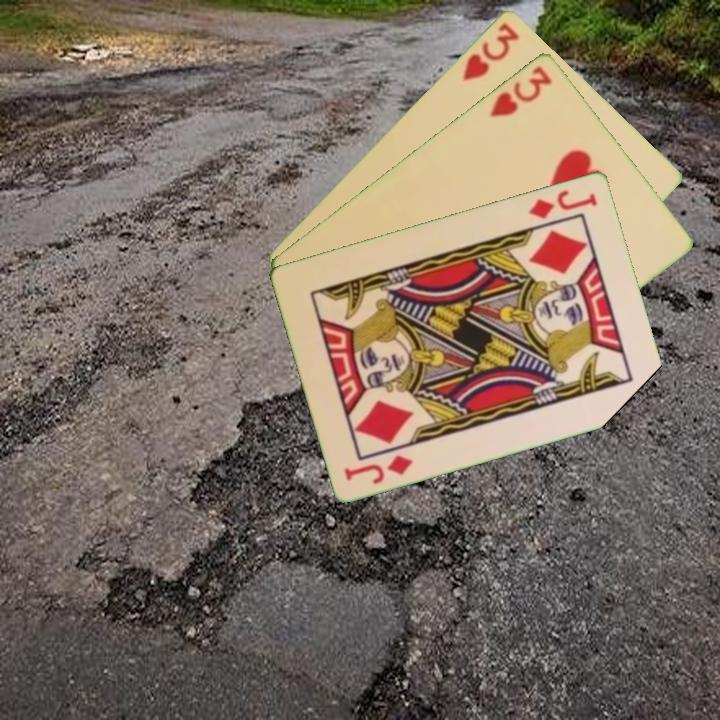3h: (459, 18, 523, 84), (486, 61, 555, 120)
Jd: (341, 450, 416, 487), (525, 186, 601, 221)
